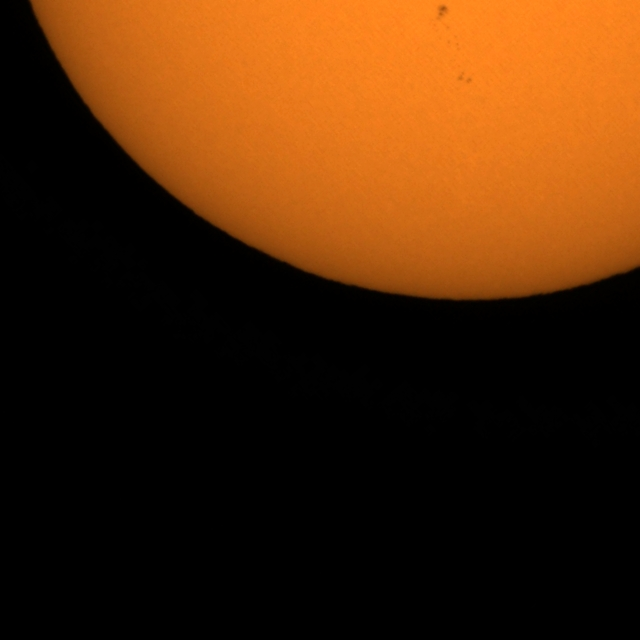sunspot: (434, 1, 453, 36), (456, 70, 474, 86), (435, 3, 450, 21)
